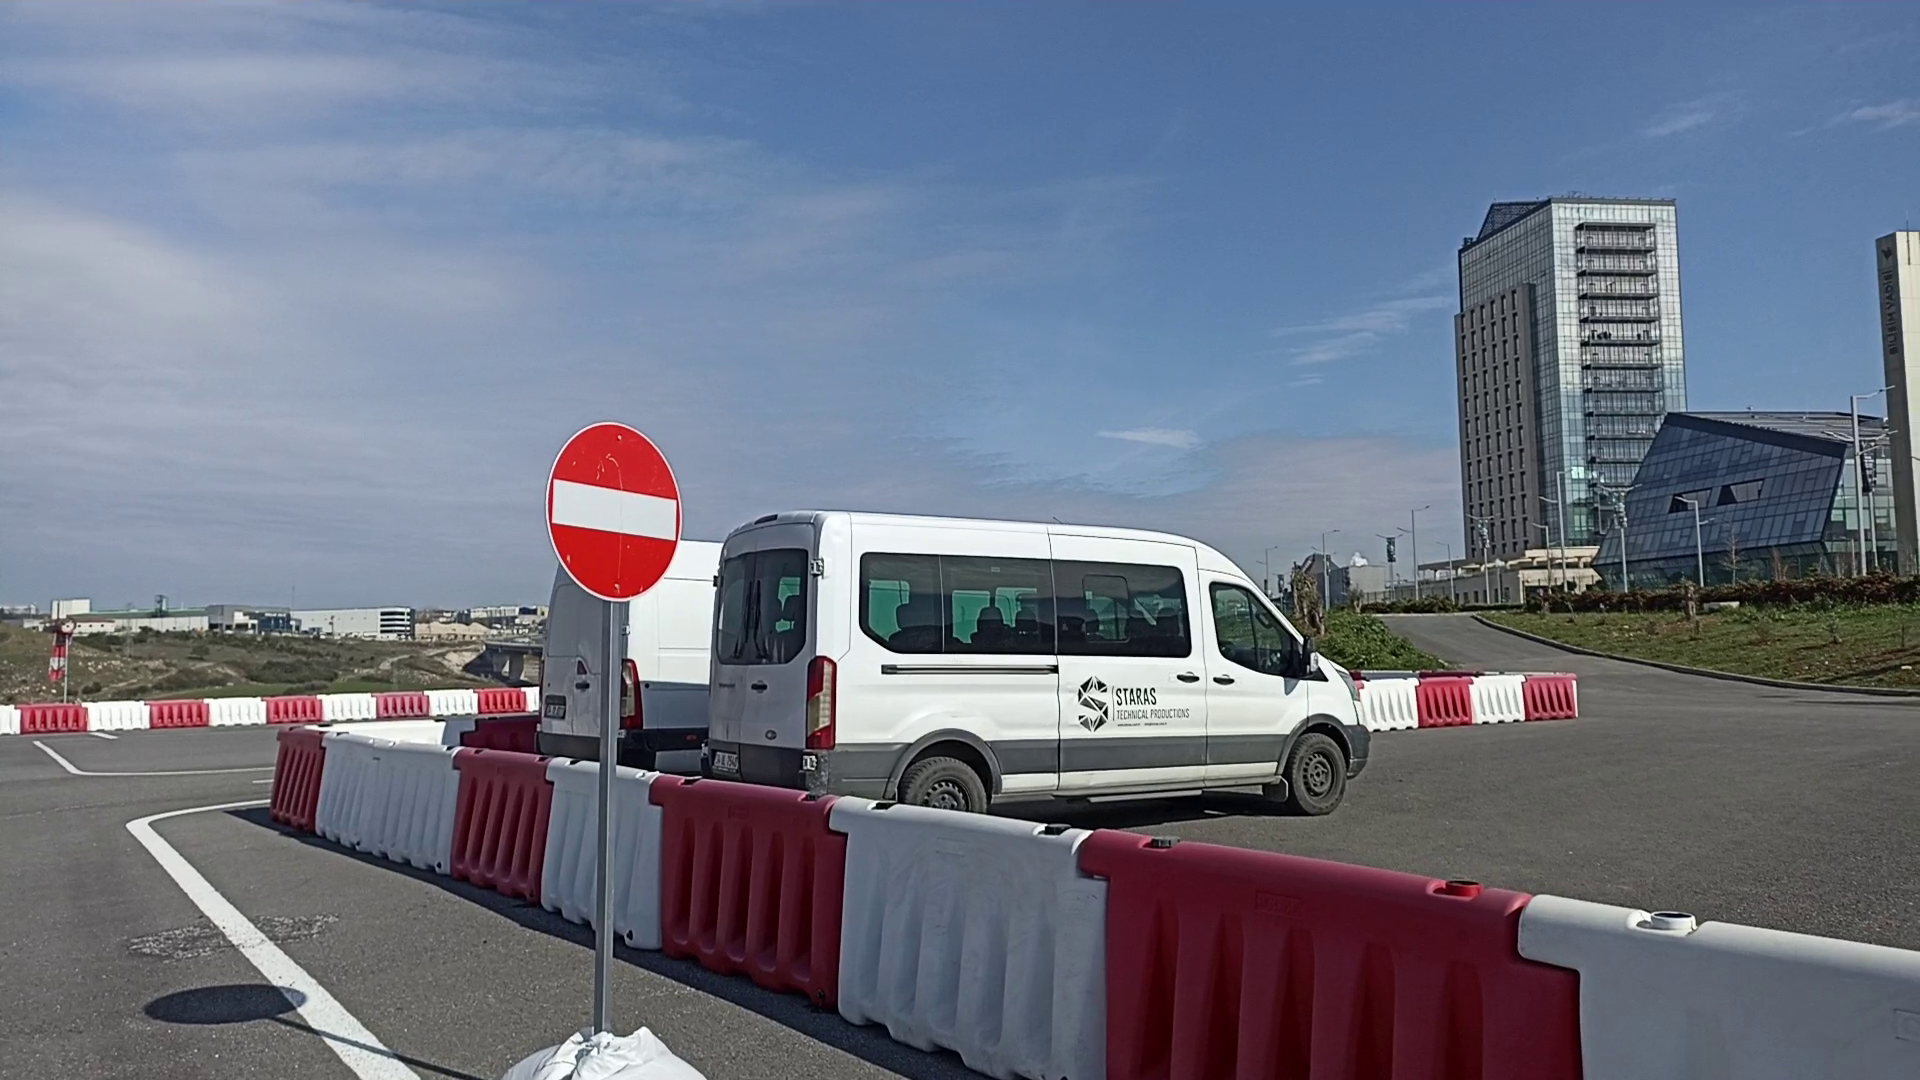noentryway: (543, 419, 684, 604)
